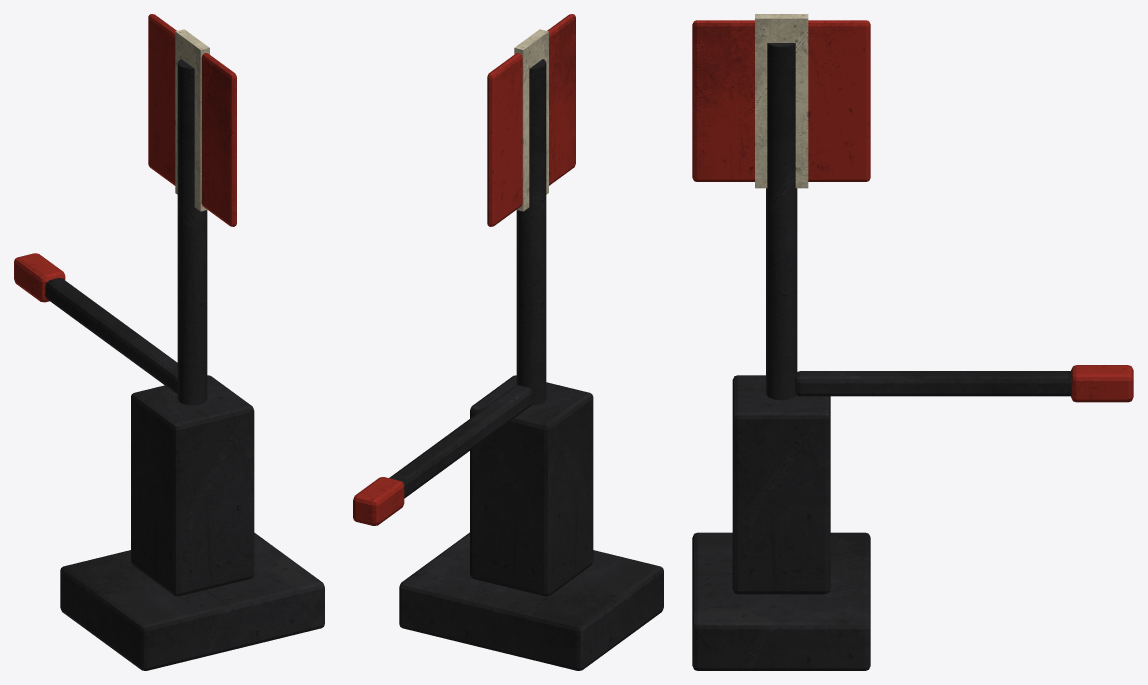
The model's file is switch_stand.glb.
The picture shows the model from 3 angles, left to right: view 1: azimuth 30°, elevation 25°; view 2: azimuth 150°, elevation 25°; view 3: azimuth 270°, elevation 25°; orthographic projection. The views are drawn at different scales.
Visible parts, largest first — view 1: Base, Target, Lever; view 2: Base, Target, Lever; view 3: Base, Target, Lever.
Part boxes in pixels (x1=…): Base: x1=60, y1=59, x2=324, y2=670; Target: x1=148, y1=14, x2=236, y2=226; Lever: x1=14, y1=253, x2=177, y2=393; Base: x1=399, y1=59, x2=663, y2=670; Target: x1=487, y1=14, x2=575, y2=226; Lever: x1=353, y1=385, x2=532, y2=525; Base: x1=692, y1=43, x2=870, y2=670; Target: x1=692, y1=14, x2=870, y2=188; Lever: x1=795, y1=365, x2=1133, y2=402.
Bounding box in the file's own units: 0.5 × 1.51 × 0.99.
Materials: 3 (3 with a texture image).
